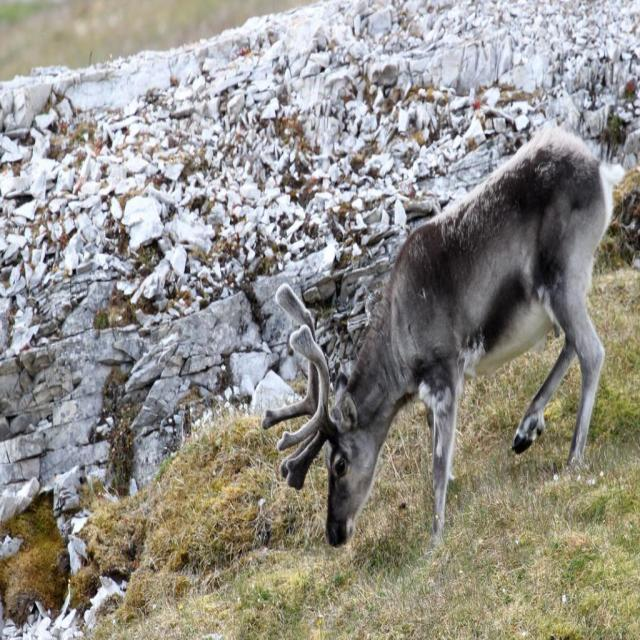Deer: (263, 120, 622, 559)
